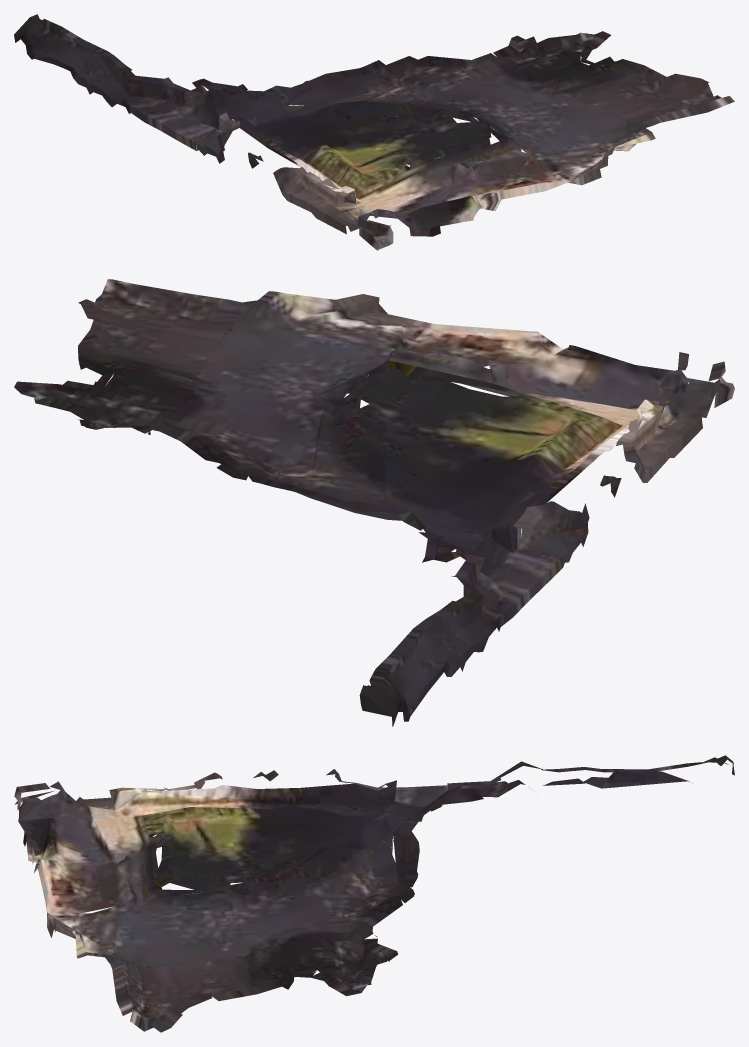
3 renders of one model, top to bottom at view 1: azimuth 30°, elevation 25°; view 2: azimuth 150°, elevation 25°; view 3: azimuth 270°, elevation 25°, orthographic. The views are drawn at different scales.
Visible parts, largest first — view 1: Mesh_0; view 2: Mesh_0; view 3: Mesh_0.
Boxes of the visible parts, bbox=[...] form: Mesh_0: bbox=[14, 14, 734, 250]; Mesh_0: bbox=[14, 279, 734, 726]; Mesh_0: bbox=[14, 755, 734, 1032].
Bounding box in the file's own units: 33.03 × 2.45 × 38.27.
Materials: 1 (1 with a texture image).
